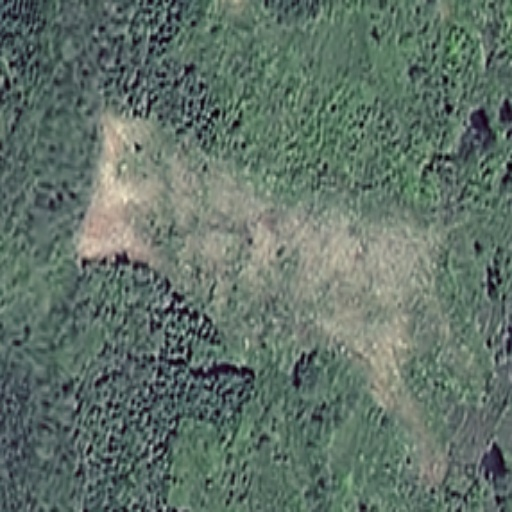landslide: (75, 108, 436, 319)
